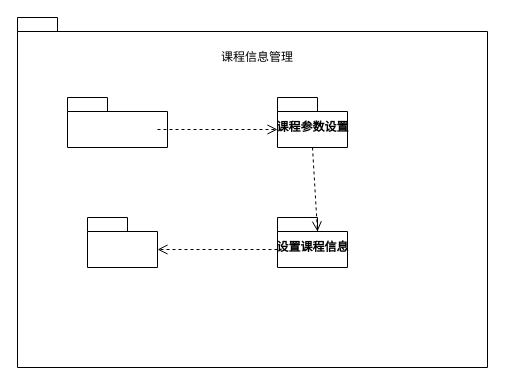
The diagram is 505 pixels wide and 385 high, and some of its shapes have lost their labels. The centre of each missing label's shape, as x and y in pixels:
显示课程信息: (122,242)
课程信息管理界面: (117,122)
